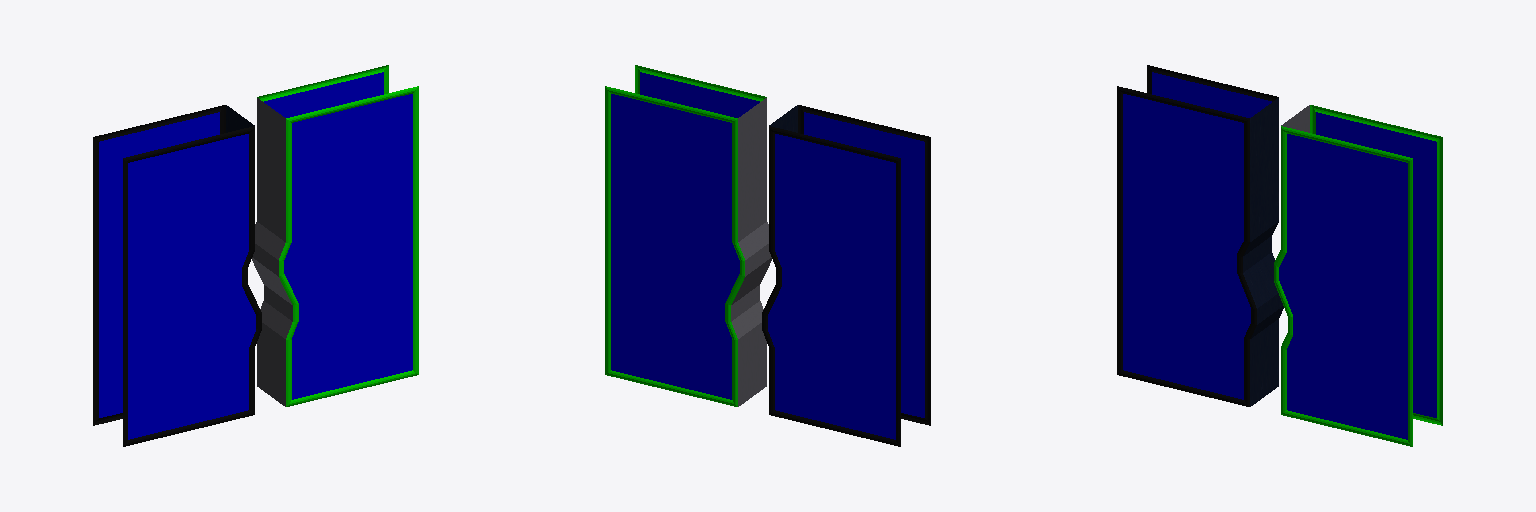
The picture shows the model from 3 angles: view 1: azimuth 30°, elevation 25°; view 2: azimuth 150°, elevation 25°; view 3: azimuth 330°, elevation 25°; orthographic projection.
Visible parts, largest first — view 1: Door.Right_Cube.006, Door.Left_Cube.007; view 2: Door.Right_Cube.006, Door.Left_Cube.007; view 3: Door.Left_Cube.007, Door.Right_Cube.006.
Part boxes in pixels (x1,y1,x2,y2): Door.Right_Cube.006: (93,105,261,446); Door.Left_Cube.007: (252,65,418,406); Door.Right_Cube.006: (762,105,930,446); Door.Left_Cube.007: (605,65,771,406); Door.Left_Cube.007: (1274,105,1442,446); Door.Right_Cube.006: (1117,65,1283,406).
Bounding box in the file's own units: 5.63 × 5.26 × 0.9998.
6 materials, 3 textured.